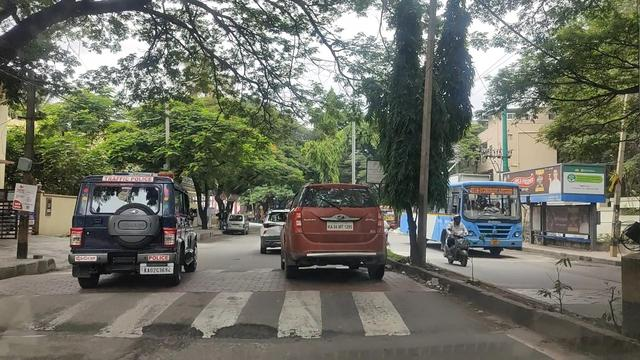LMV: (73, 176, 181, 278), (292, 182, 384, 275)
RoadDamages: (215, 322, 285, 343), (142, 318, 199, 342), (50, 319, 104, 338)
SpeedBump: (14, 287, 483, 338)
